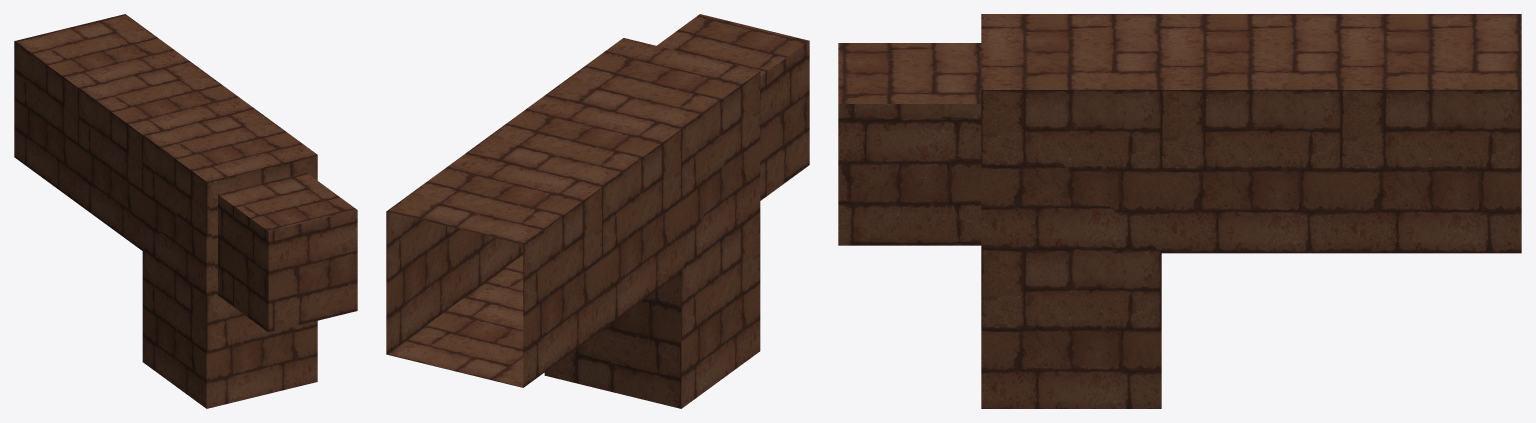
Rendered from Corridor_End_Trap_1x3.fbx.
3 views of the same model, side by side, from view 1: azimuth 30°, elevation 25°; view 2: azimuth 150°, elevation 25°; view 3: azimuth 270°, elevation 25° (orthographic). The views are drawn at different scales.
Visible parts, largest first — view 1: Corridor_End_Trap_1x3; view 2: Corridor_End_Trap_1x3; view 3: Corridor_End_Trap_1x3.
Part boxes in pixels (x1,y1,x2,y2): Corridor_End_Trap_1x3: [14, 14, 357, 408]; Corridor_End_Trap_1x3: [386, 14, 809, 408]; Corridor_End_Trap_1x3: [838, 14, 1521, 408].
Bounding box in the file's own units: 66.08 × 129 × 251.
